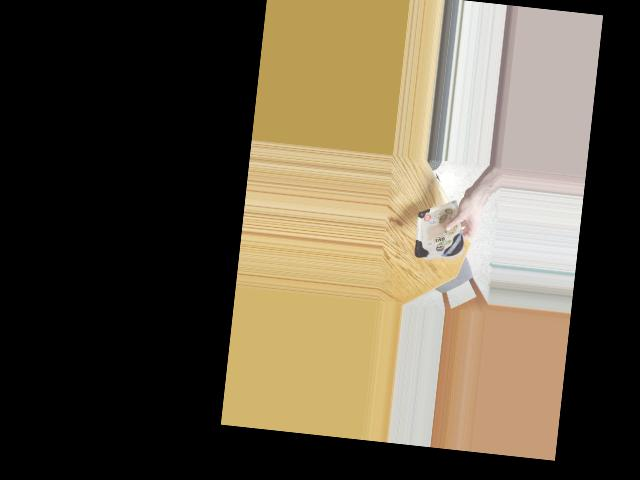cheese: (418, 201, 460, 263)
